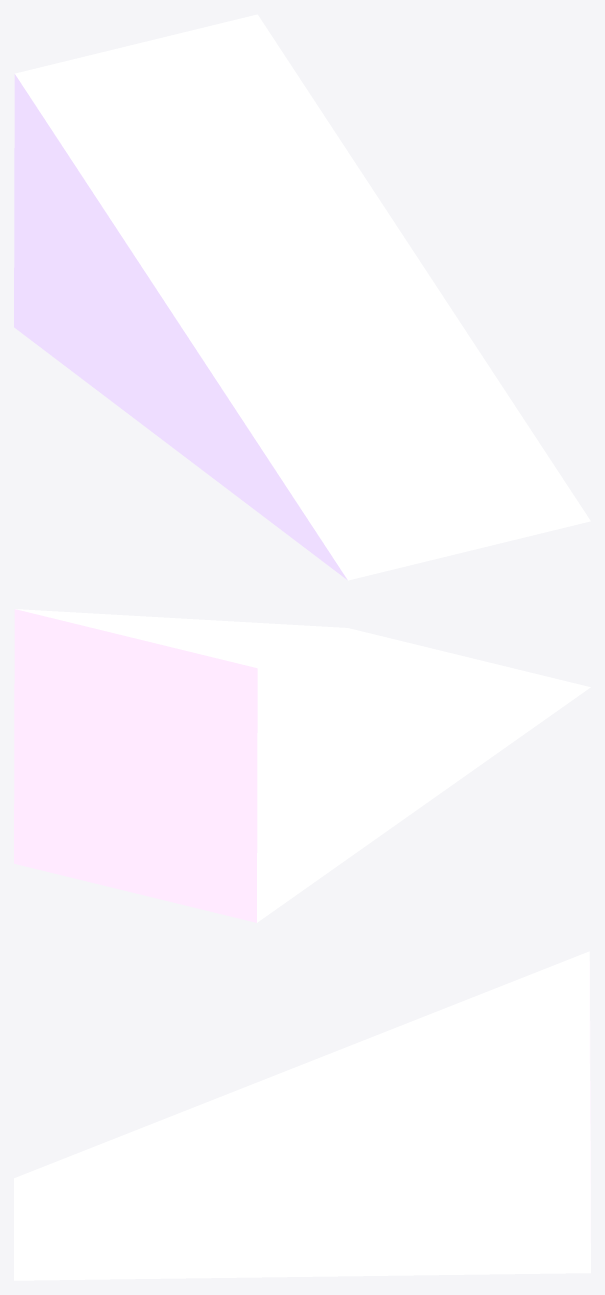
Rendered from holoRamp.glb.
3 renders of one model, top to bottom at view 1: azimuth 30°, elevation 25°; view 2: azimuth 150°, elevation 25°; view 3: azimuth 270°, elevation 25°, orthographic. The views are drawn at different scales.
Parts seen in each view (by area): view 1: Cube.002; view 2: Cube.002; view 3: Cube.002.
Boxes of the visible parts, x1,y1,x2,y2 form: Cube.002: [14, 14, 590, 580]; Cube.002: [14, 609, 590, 922]; Cube.002: [14, 951, 590, 1280].
Size of the model in its own units: 0.1093 by 0.113 by 0.2602.
